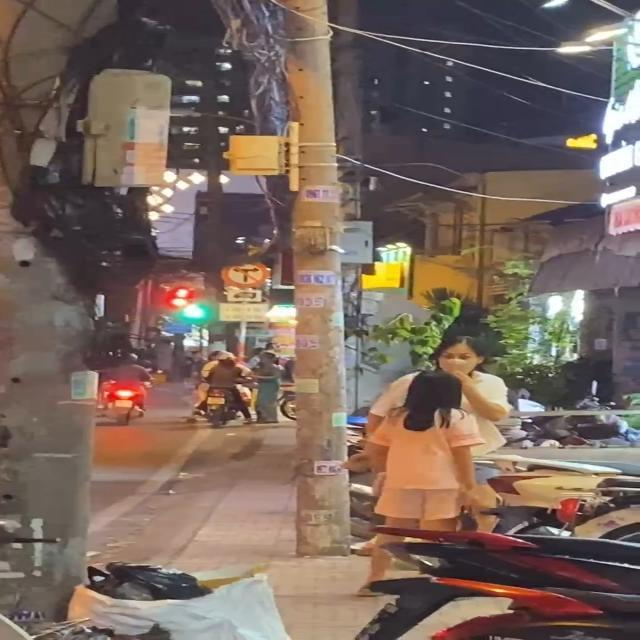137-cam-re-trai-va-re-phai: (220, 259, 270, 288)
